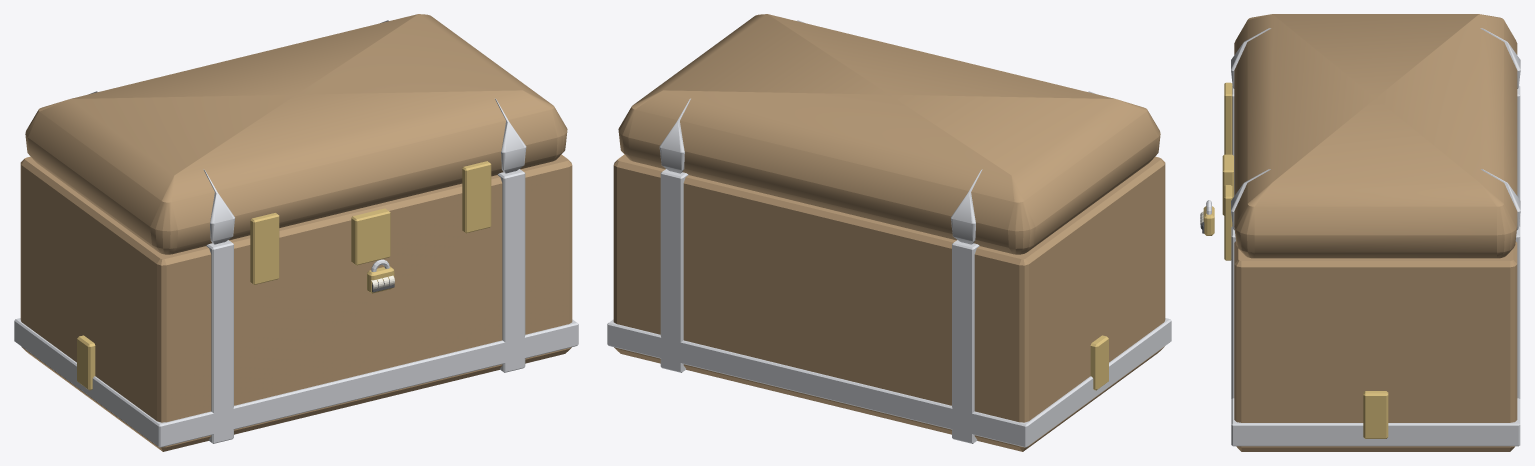
Rendered from escape-room-and-puzzle-venue-locked-chest-with-hasps-de58081b__35795.glb.
3 renders of one model, left to right at view 1: azimuth 30°, elevation 25°; view 2: azimuth 150°, elevation 25°; view 3: azimuth 270°, elevation 25°, orthographic.
Parts seen in each view (by area): view 1: locked-chest-with-hasps, lid/timber, lid/brass, lid/metal; view 2: locked-chest-with-hasps, lid/timber, lid/metal; view 3: lid/timber, locked-chest-with-hasps, lid/brass, lid/metal.
Boxes of the visible parts, bbox=[...] form: locked-chest-with-hasps: bbox=[14, 154, 578, 451]; lid/timber: bbox=[25, 14, 567, 254]; lid/brass: bbox=[250, 161, 491, 284]; lid/metal: bbox=[88, 20, 526, 244]; locked-chest-with-hasps: bbox=[607, 154, 1171, 451]; lid/timber: bbox=[618, 14, 1160, 254]; lid/metal: bbox=[659, 20, 1097, 244]; lid/timber: bbox=[1234, 14, 1517, 258]; locked-chest-with-hasps: bbox=[1200, 85, 1520, 451]; lid/brass: bbox=[1224, 82, 1232, 260]; lid/metal: bbox=[1231, 28, 1520, 229].
Size of the model in its own units: 0.97 by 0.56 by 0.6348.
